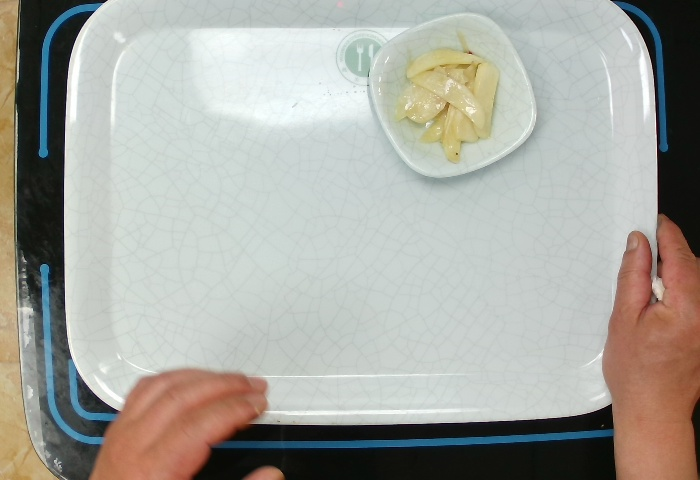JYsf-Si_Fang_Die: (356, 9, 536, 184)
